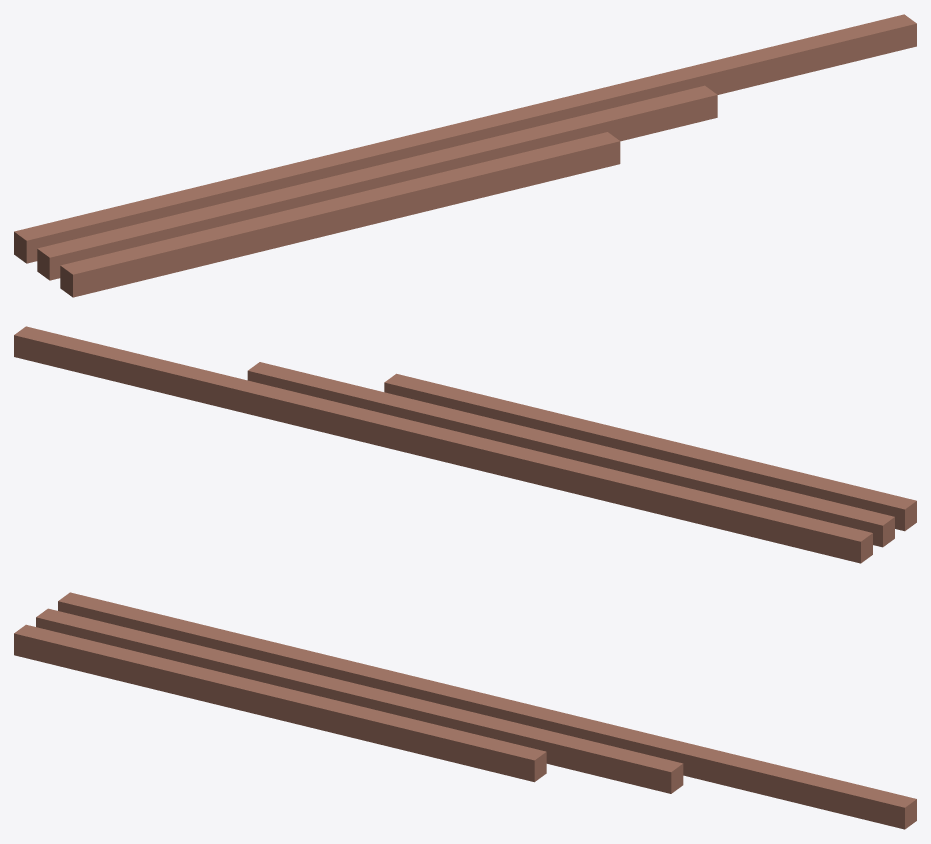
File: post-120x120-steel_ipe_v0.1.glb
3 views of the same model, one above another, from view 1: azimuth 30°, elevation 25°; view 2: azimuth 150°, elevation 25°; view 3: azimuth 330°, elevation 25° (orthographic). The views are drawn at different scales.
Parts seen in each view (by area): view 1: IB-14232_post-120x120-steel_ipe_4880mm, IB-14212-IP_post-120x120-steel_ipe_3000mm, IB-14222_post-120x120-steel_ipe_3660mm; view 2: IB-14232_post-120x120-steel_ipe_4880mm, IB-14222_post-120x120-steel_ipe_3660mm, IB-14212-IP_post-120x120-steel_ipe_3000mm; view 3: IB-14232_post-120x120-steel_ipe_4880mm, IB-14212-IP_post-120x120-steel_ipe_3000mm, IB-14222_post-120x120-steel_ipe_3660mm.
Part boxes in pixels (<box>): IB-14232_post-120x120-steel_ipe_4880mm: <box>14,14,916,263</box>; IB-14212-IP_post-120x120-steel_ipe_3000mm: <box>60,132,620,297</box>; IB-14222_post-120x120-steel_ipe_3660mm: <box>37,85,717,280</box>; IB-14232_post-120x120-steel_ipe_4880mm: <box>14,326,872,563</box>; IB-14222_post-120x120-steel_ipe_3660mm: <box>247,362,894,547</box>; IB-14212-IP_post-120x120-steel_ipe_3000mm: <box>384,373,916,531</box>; IB-14232_post-120x120-steel_ipe_4880mm: <box>58,592,916,829</box>; IB-14212-IP_post-120x120-steel_ipe_3000mm: <box>14,624,546,782</box>; IB-14222_post-120x120-steel_ipe_3660mm: <box>36,608,683,793</box>.
Bounding box in the file's own units: 4.88 × 0.12 × 0.56.
